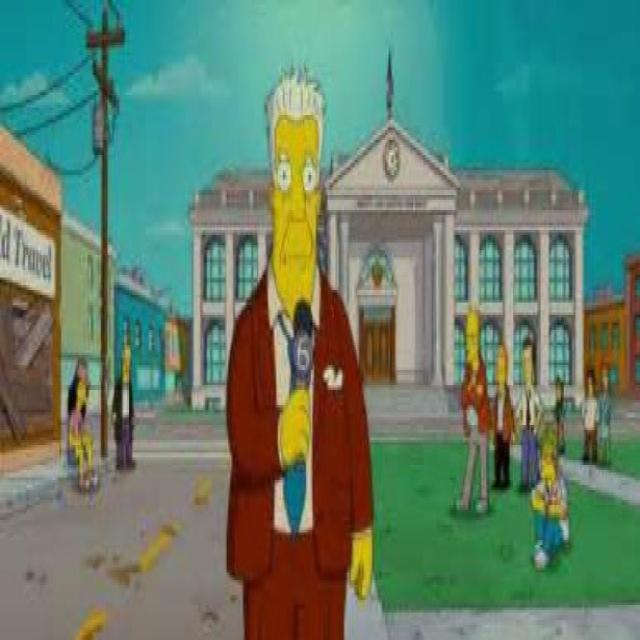Kent Brockman: (263, 62, 326, 328)
